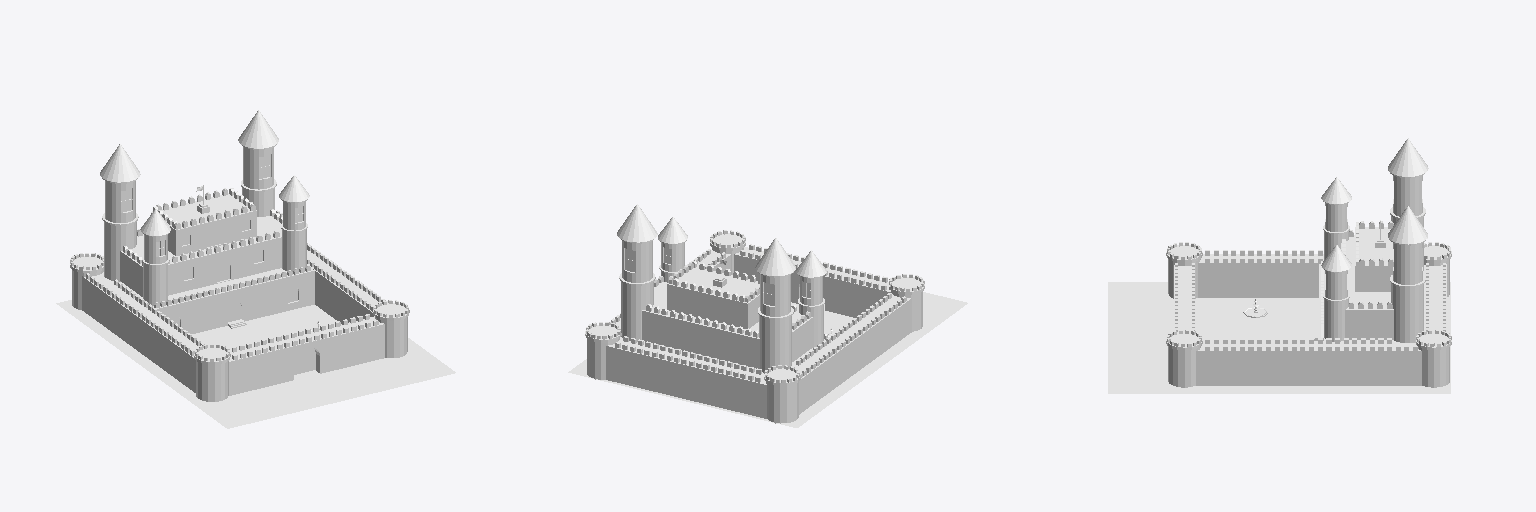
Rendered from Castle.obj.
3 views of the same model, side by side, from view 1: azimuth 30°, elevation 25°; view 2: azimuth 150°, elevation 25°; view 3: azimuth 270°, elevation 25° (orthographic).
Parts seen in each view (by area): view 1: Castle_Exterior, Castle_Interior, Towers_Doors_and_Windows, Ground_and_Fountain; view 2: Castle_Exterior, Towers_Doors_and_Windows, Castle_Interior, Ground_and_Fountain; view 3: Castle_Exterior, Ground_and_Fountain, Towers_Doors_and_Windows, Castle_Interior.
Boxes of the visible parts, x1=… form: Castle_Exterior: x1=70, y1=210, x2=409, y2=401; Castle_Interior: x1=103, y1=185, x2=314, y2=333; Towers_Doors_and_Windows: x1=100, y1=110, x2=315, y2=374; Ground_and_Fountain: x1=56, y1=300, x2=455, y2=428; Castle_Exterior: x1=585, y1=230, x2=924, y2=423; Towers_Doors_and_Windows: x1=617, y1=204, x2=826, y2=372; Castle_Interior: x1=620, y1=260, x2=827, y2=373; Ground_and_Fountain: x1=568, y1=292, x2=967, y2=427; Castle_Exterior: x1=1166, y1=242, x2=1451, y2=387; Ground_and_Fountain: x1=1108, y1=282, x2=1450, y2=393; Towers_Doors_and_Windows: x1=1311, y1=138, x2=1428, y2=342; Castle_Interior: x1=1319, y1=220, x2=1424, y2=341.
Size of the model in its own units: 58.11 by 40.26 by 75.6.